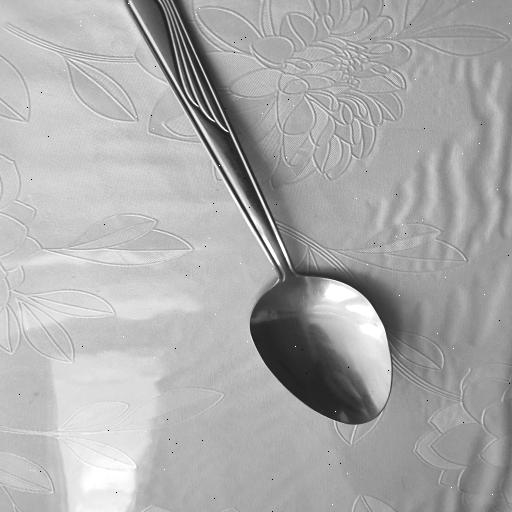spoon: (118, 0, 387, 430)
